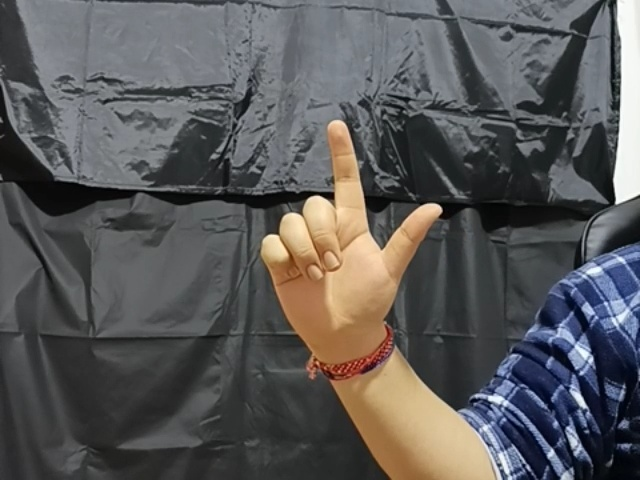L: (253, 118, 445, 340)
